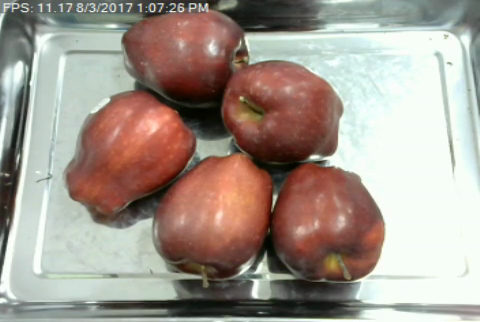Apple: (59, 87, 198, 220), (146, 148, 278, 287), (270, 159, 389, 286), (218, 55, 346, 170), (116, 6, 254, 111)
